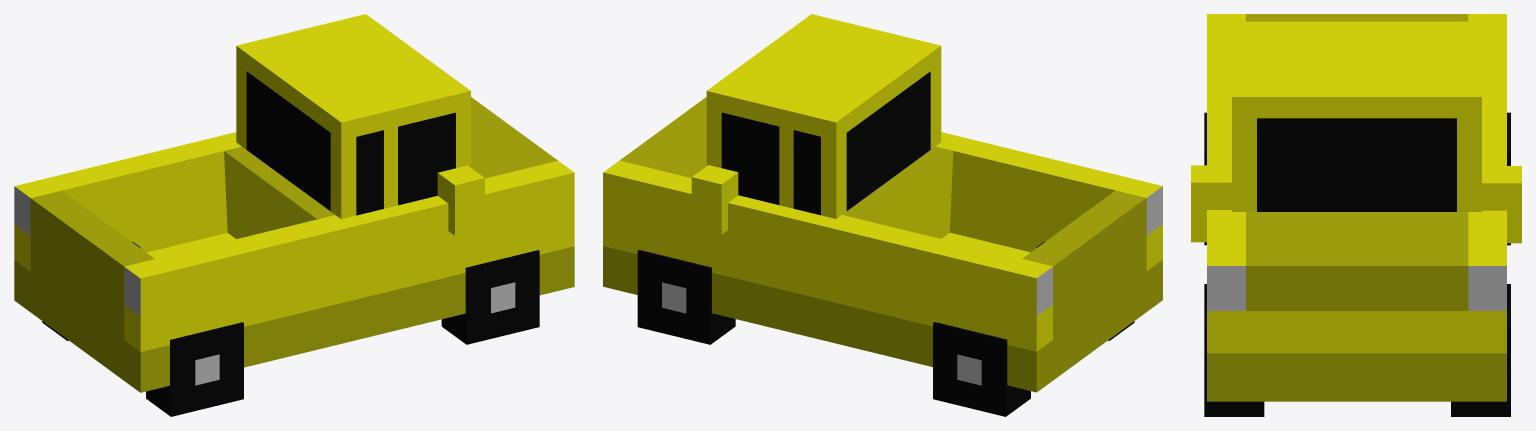
The model's file is TruckYellow.fbx.
The picture shows the model from 3 angles, left to right: view 1: azimuth 30°, elevation 25°; view 2: azimuth 150°, elevation 25°; view 3: azimuth 270°, elevation 25°; orthographic projection. The views are drawn at different scales.
Visible parts, largest first — view 1: Truck_copy:YellowTruck1:pasted__pCube11; view 2: Truck_copy:YellowTruck1:pasted__pCube11; view 3: Truck_copy:YellowTruck1:pasted__pCube11.
Part boxes in pixels (left/top/right/bottom): Truck_copy:YellowTruck1:pasted__pCube11: left=14, top=14, right=574, bottom=416; Truck_copy:YellowTruck1:pasted__pCube11: left=603, top=14, right=1162, bottom=416; Truck_copy:YellowTruck1:pasted__pCube11: left=1191, top=14, right=1521, bottom=416.
Bounding box in the file's own units: 0.9035 × 0.4803 × 0.5014.
